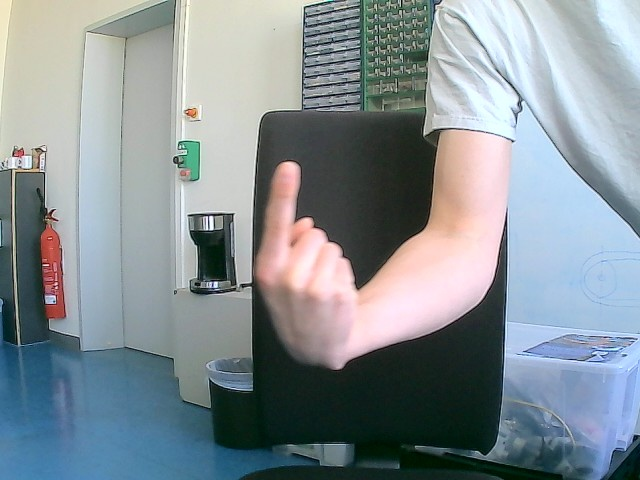up: (252, 159, 360, 371)
